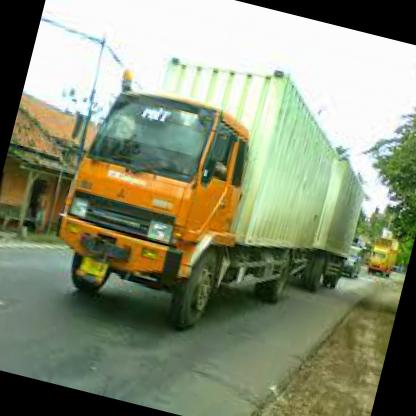truck: (44, 74, 268, 340)
